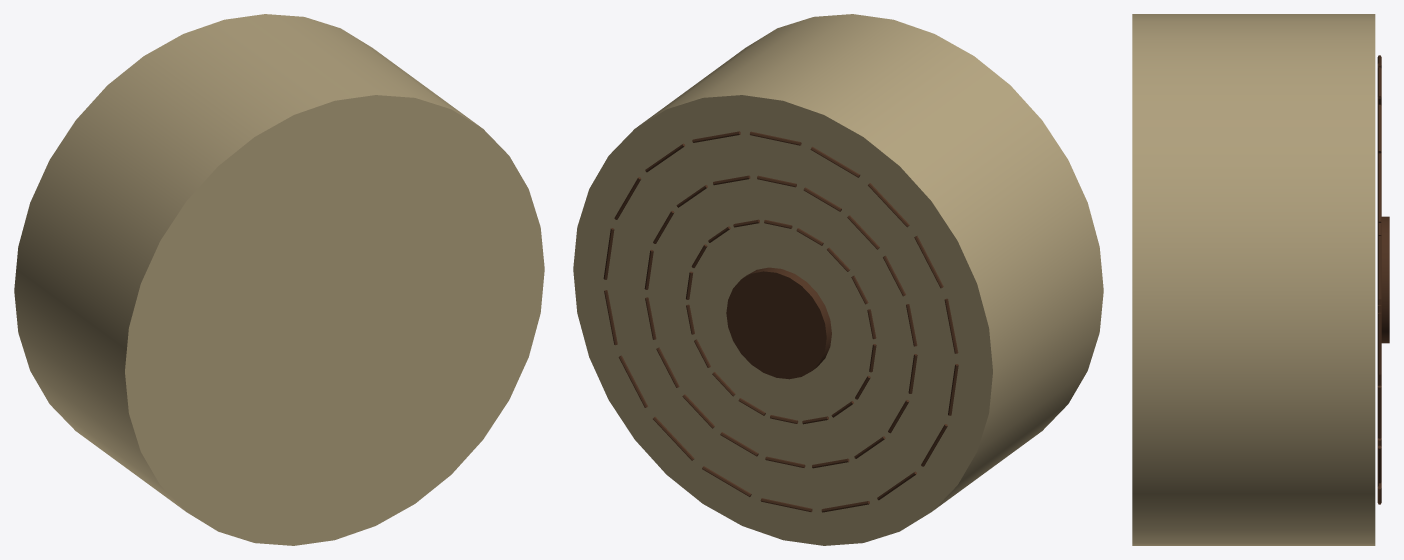
Rendered from SM_TicketRoll_554b3a9f72.fbx.
The picture shows the model from 3 angles, left to right: view 1: azimuth 30°, elevation 25°; view 2: azimuth 150°, elevation 25°; view 3: azimuth 270°, elevation 25°; orthographic projection. The views are drawn at different scales.
Parts seen in each view (by area): view 1: SM_TicketRoll_554b3a9f72; view 2: SM_TicketRoll_554b3a9f72; view 3: SM_TicketRoll_554b3a9f72.
Boxes of the visible parts, x1,y1,x2,y2 form: SM_TicketRoll_554b3a9f72: (14, 14, 544, 545); SM_TicketRoll_554b3a9f72: (573, 14, 1103, 545); SM_TicketRoll_554b3a9f72: (1132, 14, 1389, 545).
Size of what is drawn, in the model's own units: 18.4 by 8.9 by 18.4.
